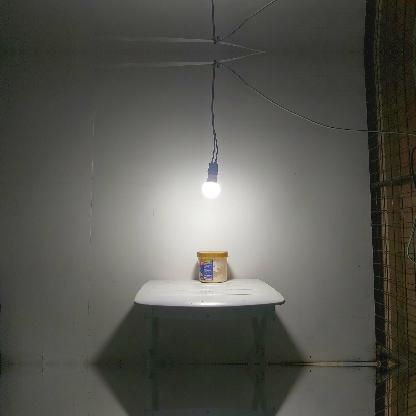Lady-s-Choice: (197, 250, 229, 282)
